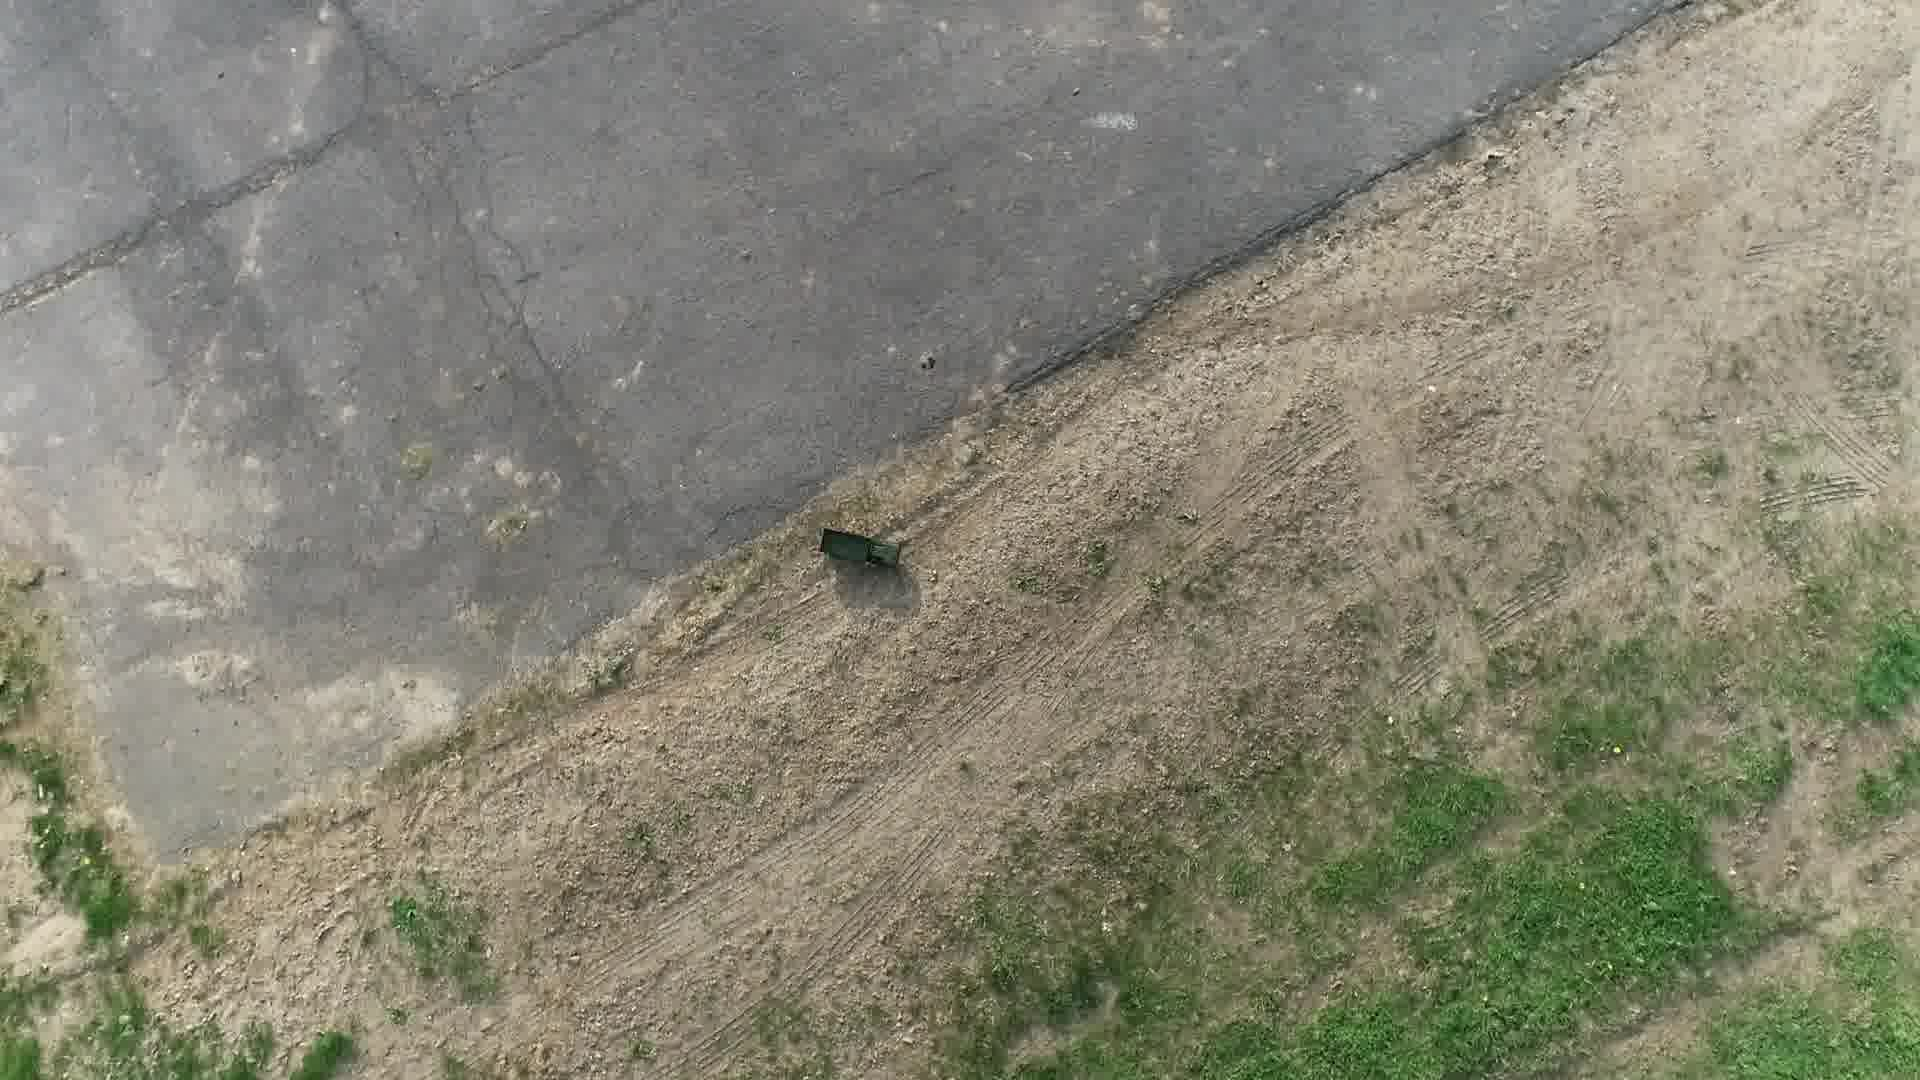transporter9: (815, 524, 906, 580)
